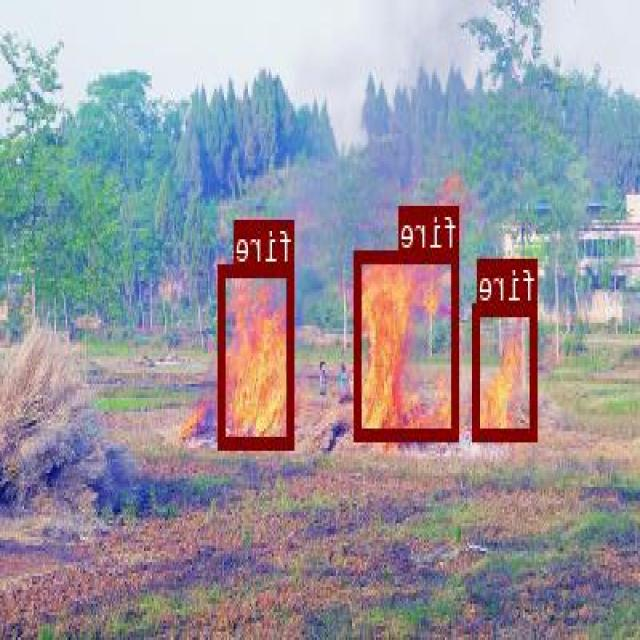fire: (357, 250, 460, 440), (220, 263, 294, 447), (474, 302, 538, 438)
